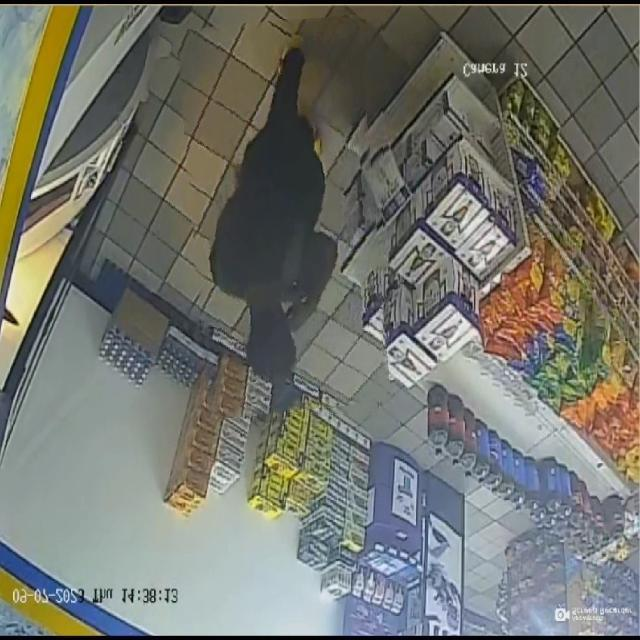Normal: (184, 19, 383, 416)
